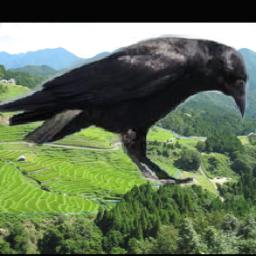Crow: (0, 34, 249, 185)
